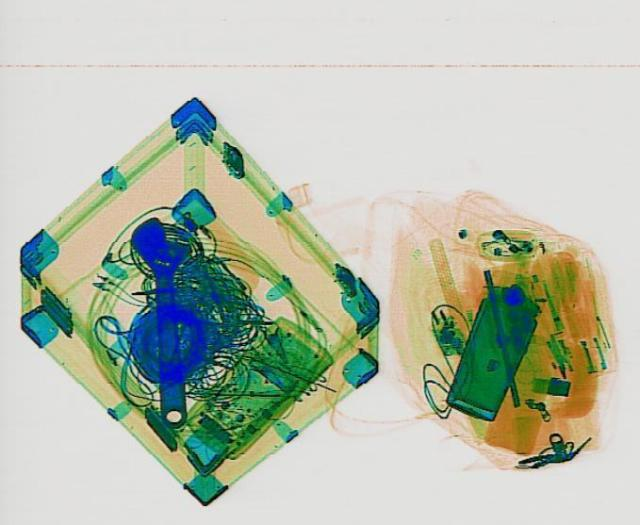Wrench: (126, 213, 204, 426)
